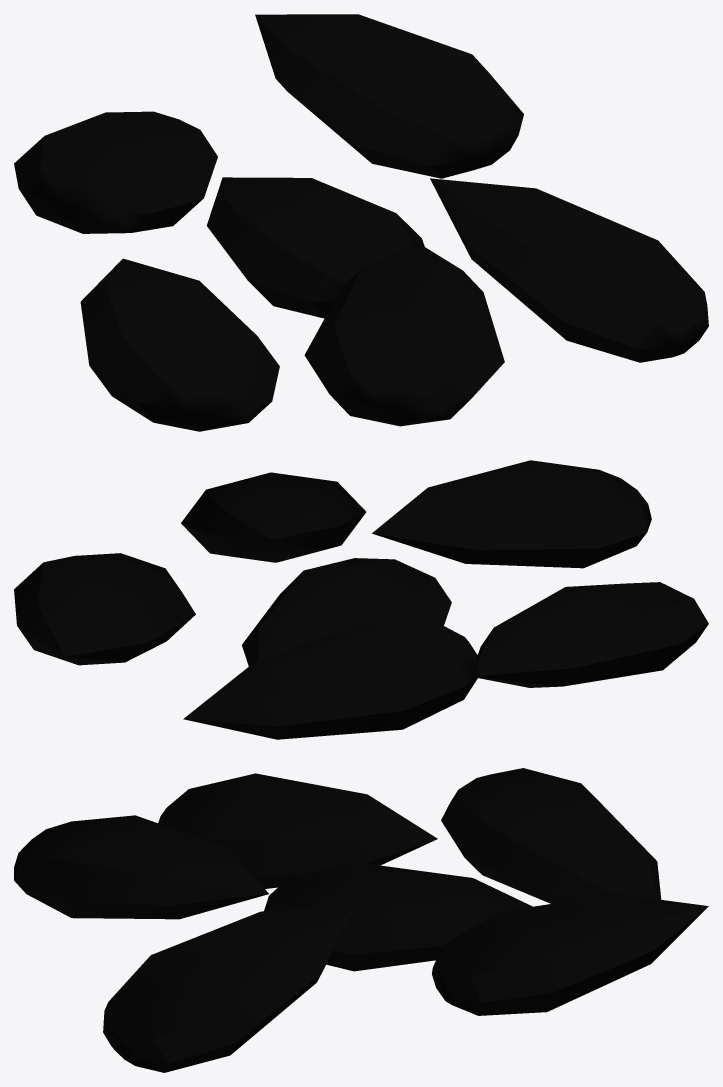
File: Seed v1.fbx
The picture shows the model from 3 angles, top to bottom: view 1: azimuth 30°, elevation 25°; view 2: azimuth 150°, elevation 25°; view 3: azimuth 270°, elevation 25°; orthographic projection. The views are drawn at different scales.
Parts seen in each view (by area): view 1: Seed; view 2: Seed; view 3: Seed.
Part boxes in pixels (box(x1,y1,x2,y2)): Seed: box(14, 14, 708, 431); Seed: box(14, 460, 708, 739); Seed: box(14, 768, 708, 1072).
Size of the model in its own units: 34.55 by 8.68 by 41.43.
